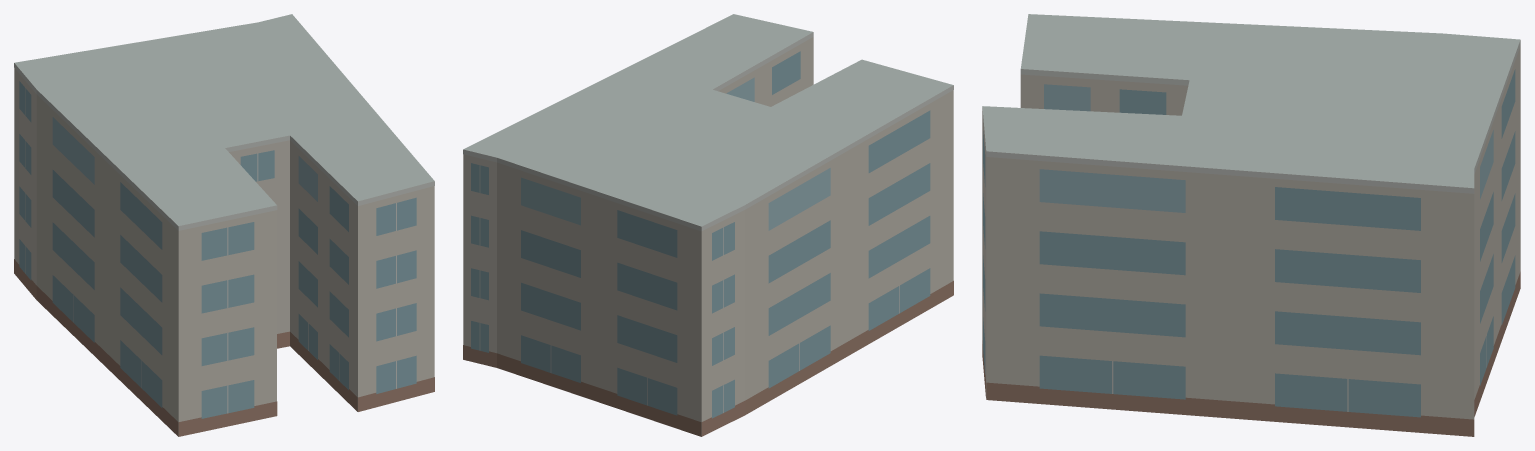
Rendered from survey-upis-32472087.glb.
3 renders of one model, left to right at view 1: azimuth 30°, elevation 25°; view 2: azimuth 150°, elevation 25°; view 3: azimuth 270°, elevation 25°, orthographic. The views are drawn at different scales.
Parts seen in each view (by area): view 1: survey-upis-32472087.tmp; view 2: survey-upis-32472087.tmp; view 3: survey-upis-32472087.tmp.
Boxes of the visible parts, x1,y1,x2,y2 form: survey-upis-32472087.tmp: [14, 14, 434, 436]; survey-upis-32472087.tmp: [463, 14, 953, 436]; survey-upis-32472087.tmp: [982, 14, 1520, 436].
Bounding box in the file's own units: 16.25 × 10.8 × 21.2.
